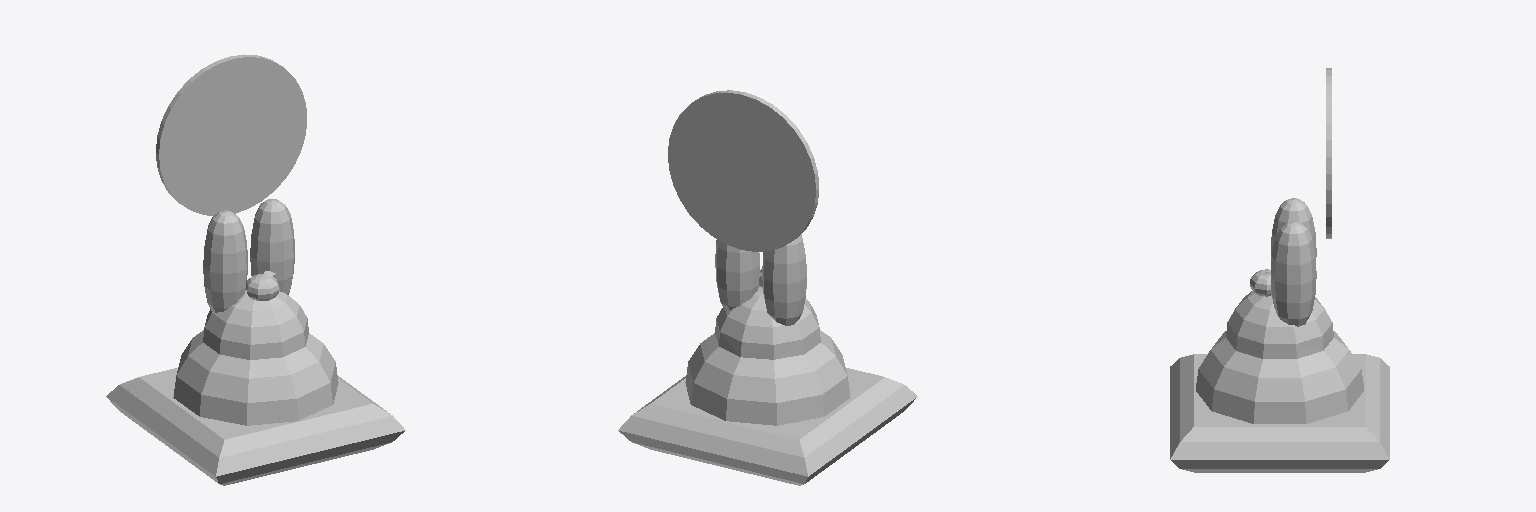
File: mikan_re.obj
3 views of the same model, side by side, from view 1: azimuth 30°, elevation 25°; view 2: azimuth 150°, elevation 25°; view 3: azimuth 270°, elevation 25° (orthographic).
Parts seen in each view (by area): view 1: Circle.001, Circle.004, Circle, Circle.005, Circle.002; view 2: Circle.001, Circle.004, Circle, Circle.005; view 3: Circle.004, Circle, Circle.005, Circle.001.
Boxes of the visible parts, box(x1,y1,x2,y2) form: Circle.001: box(156, 54, 306, 215); Circle.004: box(173, 290, 338, 425); Circle: box(106, 368, 405, 485); Circle.005: box(203, 199, 294, 312); Circle.002: box(246, 274, 279, 300); Circle.001: box(668, 90, 818, 251); Circle.004: box(685, 286, 850, 425); Circle: box(618, 368, 917, 485); Circle.005: box(715, 235, 806, 325); Circle.004: box(1196, 291, 1363, 423); Circle: box(1170, 354, 1389, 472); Circle.005: box(1271, 198, 1316, 326); Circle.001: box(1326, 68, 1331, 238).
Size of the model in its own units: 0.3298 by 0.5972 by 0.3298.